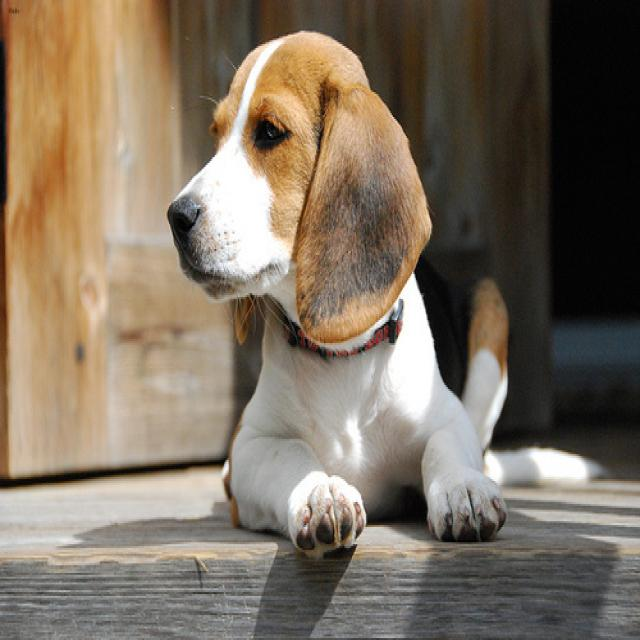dog-beagle: (155, 23, 609, 569)
